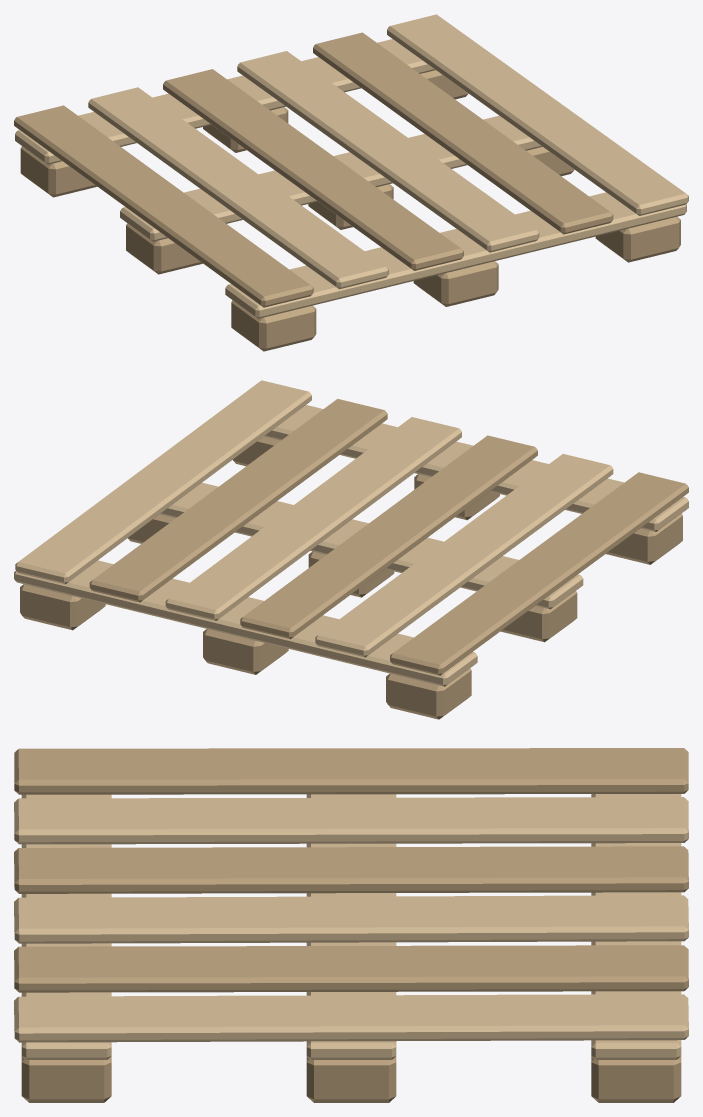
File: pallet.glb
The picture shows the model from 3 angles, top to bottom: view 1: azimuth 30°, elevation 25°; view 2: azimuth 150°, elevation 25°; view 3: azimuth 270°, elevation 25°; orthographic projection. The views are drawn at different scales.
Visible parts, largest first — view 1: pallet; view 2: pallet; view 3: pallet.
Part boxes in pixels (bbox=[...]): pallet: bbox=[14, 14, 688, 351]; pallet: bbox=[14, 380, 688, 719]; pallet: bbox=[14, 748, 688, 1102].
Bounding box in the file's own units: 0.9 × 0.117 × 0.9008.
